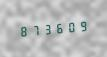eight: (17, 23, 28, 39)
nine: (78, 17, 89, 33)
seven: (29, 22, 40, 38)
six: (54, 19, 65, 35)
three: (42, 21, 53, 37)
zero: (66, 18, 77, 34)
